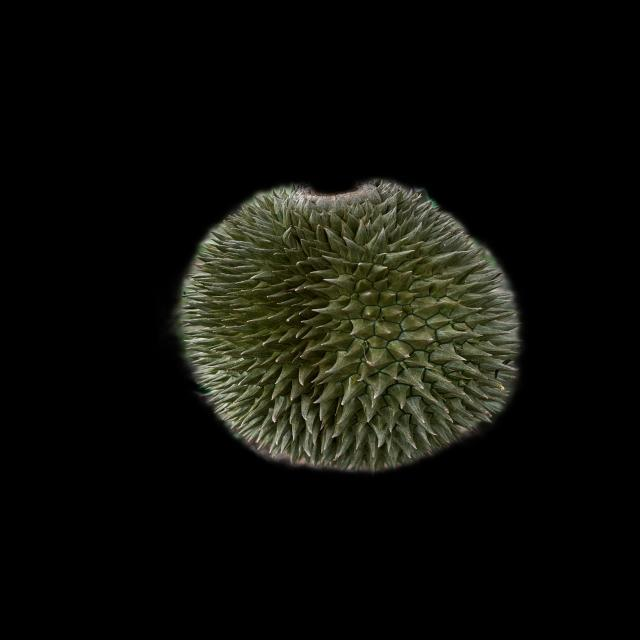immature: (177, 179, 531, 484)
